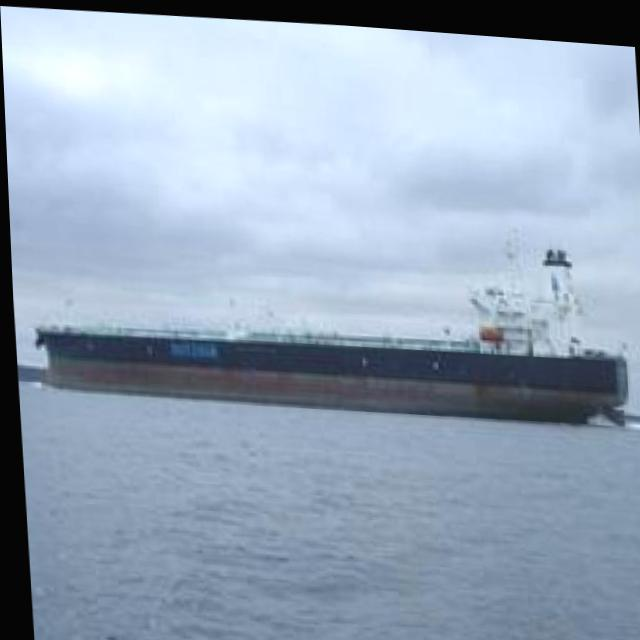ship2: (31, 217, 630, 416)
